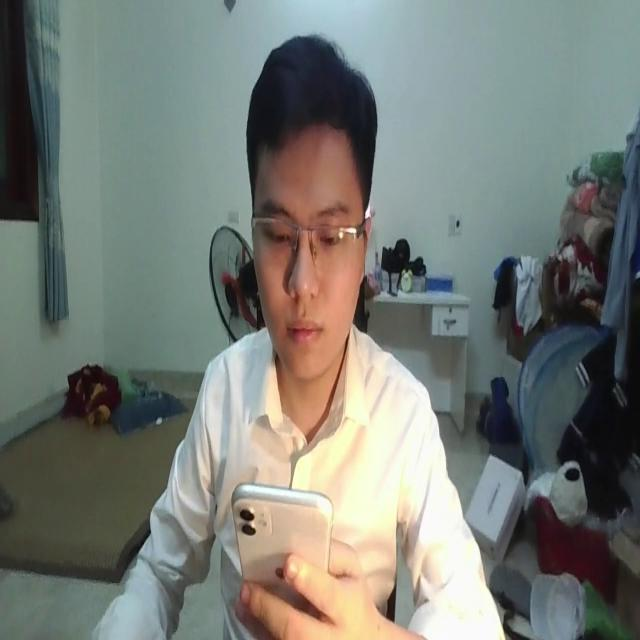phone: (231, 484, 334, 618)
student: (91, 18, 499, 640)
